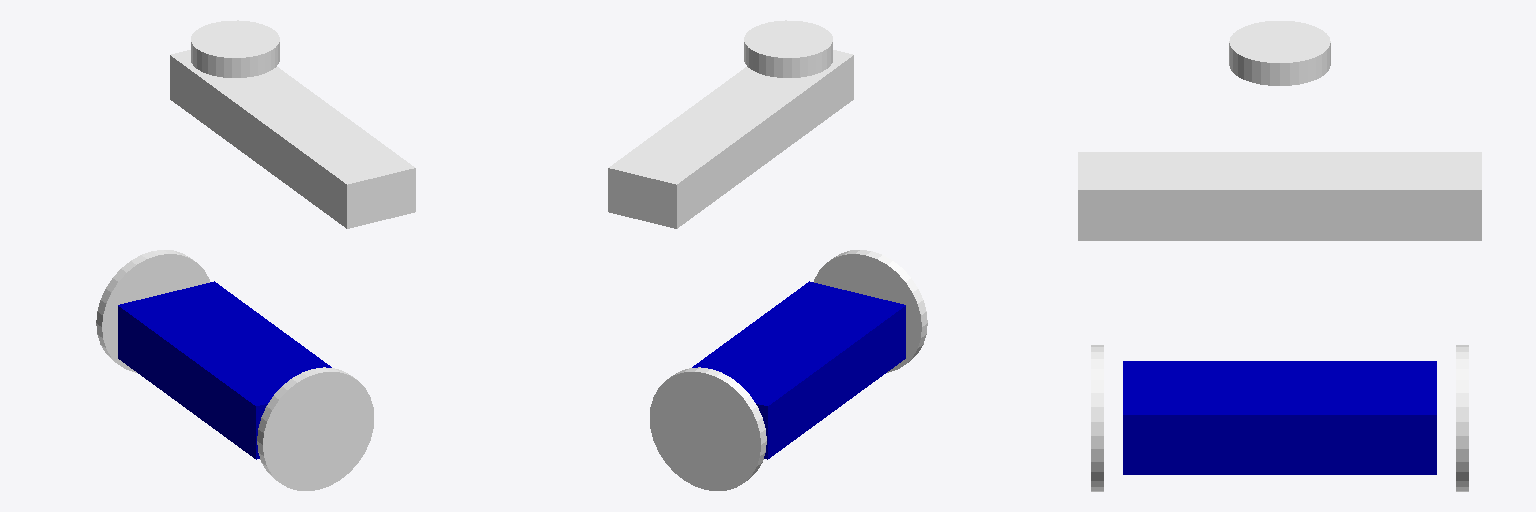
URDF robot description (OpenAGV):
<?xml version="1.0"?>
<robot name="OpenAGV">
    <material name="blue">
        <color rgba="0 0 0.8 1"/>
    </material>

    <material name="white">
        <color rgba="1 1 1 1"/>
    </material>

    <link name="base_link">
        <visual>
            <origin rpy="0 0 0" xyz="0 0 0"/>
            <geometry>
                <box size="0.087029 0.214956 0.0455"/> 
            </geometry>
            <material name="blue"/>
        </visual>
    </link>
    
    <link name="left_wheel_link">
        <visual>
            <origin rpy="1.57079632679 0 0" xyz="0 0 0"/>
            <geometry>
                <cylinder radius="0.05" length="0.009"/>
            </geometry>
            <material name="white"/>
        </visual>
    </link>

    <joint name="left_wheel_joint" type="fixed">
        <parent link="base_link"/>
        <child link="left_wheel_link"/>
        <origin xyz="0 0.12475 0" rpy="0 0 0"/>
        <axis xyz="0 1 0"/>
    </joint>

    <link name="right_wheel_link">
        <visual>
            <origin  rpy="-1.57079632679 0 0" xyz="0 0 0"/>
            <geometry>
                <cylinder radius="0.05" length="0.009"/>
            </geometry>
            <material  name="white"/>
        </visual>
    </link>

    <joint  name="right_wheel_joint" type="fixed">
        <parent link="base_link"/>
        <child link="right_wheel_link"/>
        <origin xyz="0 -0.12475 0" rpy="0 0 0"/>
    </joint>

    <link name="lidar_link">
        <visual>
            <origin rpy="0 0 0" xyz="0 0 0"/>
            <geometry>
                <cylinder radius="0.034612" length="0.017218"/>
            </geometry>
            <material name="white"/>
        </visual>
    </link>

    <joint name="lidar_joint" type="fixed">
        <parent link="base_link"/>
        <child link="lidar_link"/>
        <origin xyz="0 0 0.274891" rpy="0 0 0"/>
    </joint>

    <link name="camera_link">
        <visual>
            <origin rpy="0 0 0" xyz="0 0 0"/>
            <geometry>
                <box size="0.06150 0.275386 0.038"/>
            </geometry>
            <material name="white"/>
        </visual>
    </link>

    <joint name="camera_joint" type="fixed">
        <parent link="base_link"/>
        <child link="camera_link"/>
        <origin xyz="0.051306 0 0.19087" rpy="0 0 0"/>
    </joint>

</robot>

--- Facts derived from the render (not from the file) ---
Views: 3 orthographic renders of the robot side by side, from view 1: azimuth 30°, elevation 25°; view 2: azimuth 150°, elevation 25°; view 3: azimuth 270°, elevation 25°.
Model OpenAGV with 5 links and 4 joints (4 fixed), rooted at base_link, posed every joint at zero.
Visible links, largest first — view 1: camera_link, base_link, right_wheel_link, left_wheel_link, lidar_link; view 2: camera_link, base_link, left_wheel_link, right_wheel_link, lidar_link; view 3: camera_link, base_link, lidar_link, left_wheel_link, right_wheel_link.
Boxes of the visible links, box(x1,y1,x2,y2) form: camera_link: box(170, 50, 415, 228); base_link: box(118, 281, 331, 459); right_wheel_link: box(257, 367, 373, 490); left_wheel_link: box(96, 250, 209, 372); lidar_link: box(191, 20, 279, 77); camera_link: box(608, 50, 853, 228); base_link: box(692, 281, 905, 459); left_wheel_link: box(650, 367, 766, 490); right_wheel_link: box(814, 250, 927, 372); lidar_link: box(744, 20, 832, 77); camera_link: box(1078, 152, 1481, 240); base_link: box(1123, 361, 1436, 474); lidar_link: box(1229, 21, 1330, 85); left_wheel_link: box(1456, 345, 1468, 491); right_wheel_link: box(1091, 345, 1103, 491).
Bounding box of the posed robot: 0.1321 × 0.2754 × 0.3335 m (x, y, z).
Geometry: primitives only (box / cylinder / sphere), no mesh files.